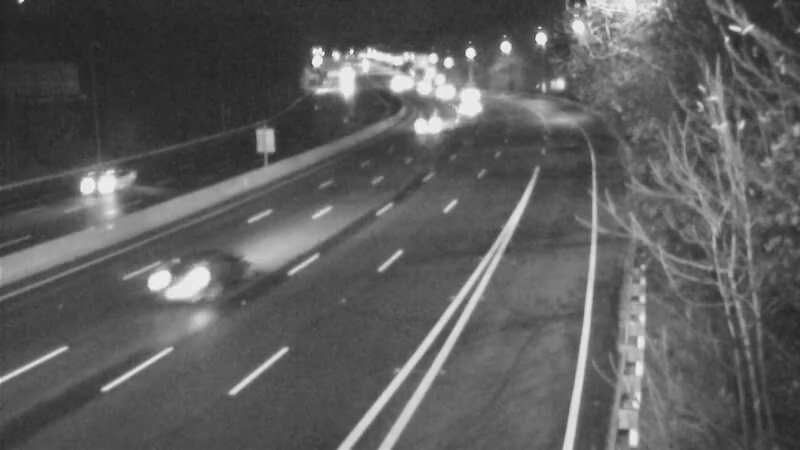vehicle: (140, 237, 220, 317), (60, 143, 140, 223), (420, 66, 470, 116), (442, 71, 492, 121), (442, 83, 492, 133), (395, 93, 445, 143)
